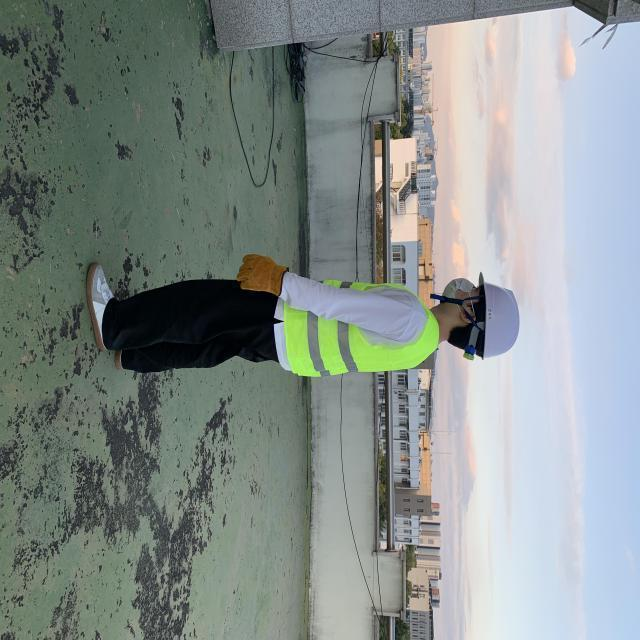gloves: (232, 250, 290, 298)
helmet: (469, 276, 525, 366)
safety_vest: (283, 278, 437, 382)
